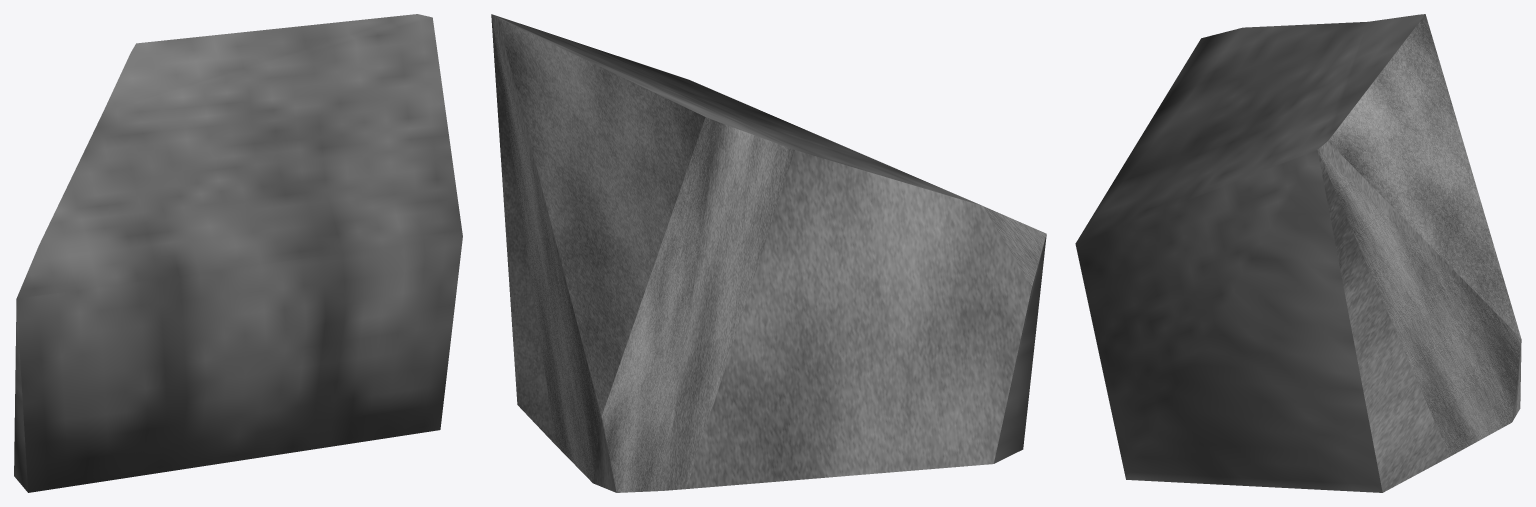
File: leg_3_cell_009.fbx
3 renders of one model, left to right at view 1: azimuth 30°, elevation 25°; view 2: azimuth 150°, elevation 25°; view 3: azimuth 270°, elevation 25°, orthographic. The views are drawn at different scales.
Parts seen in each view (by area): view 1: leg_3_cell.009; view 2: leg_3_cell.009; view 3: leg_3_cell.009.
Part boxes in pixels (bbox=[...]): leg_3_cell.009: bbox=[14, 14, 462, 492]; leg_3_cell.009: bbox=[491, 14, 1046, 492]; leg_3_cell.009: bbox=[1075, 14, 1521, 492].
Bounding box in the file's own units: 20.68 × 14.1 × 15.18.
